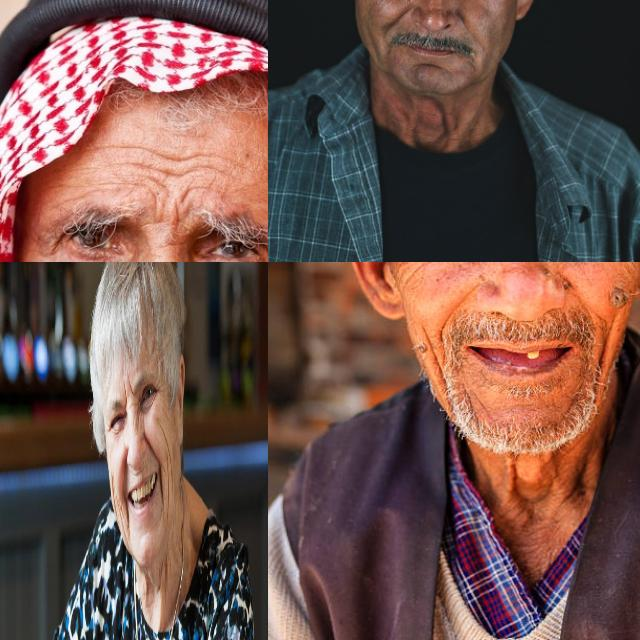bunny_line: (134, 407, 142, 434)
chin: (410, 57, 450, 77)
crows_feet: (34, 227, 68, 256)
forehead: (138, 140, 194, 190)
frown_line: (150, 199, 188, 235), (122, 375, 134, 404)
gummy_smile: (432, 293, 461, 339), (380, 9, 410, 37), (454, 9, 472, 33), (145, 430, 158, 460)
masseter: (590, 331, 616, 389), (420, 341, 448, 383), (163, 434, 174, 520), (110, 477, 121, 522)
sad_smile: (122, 494, 132, 538), (158, 464, 165, 522)
